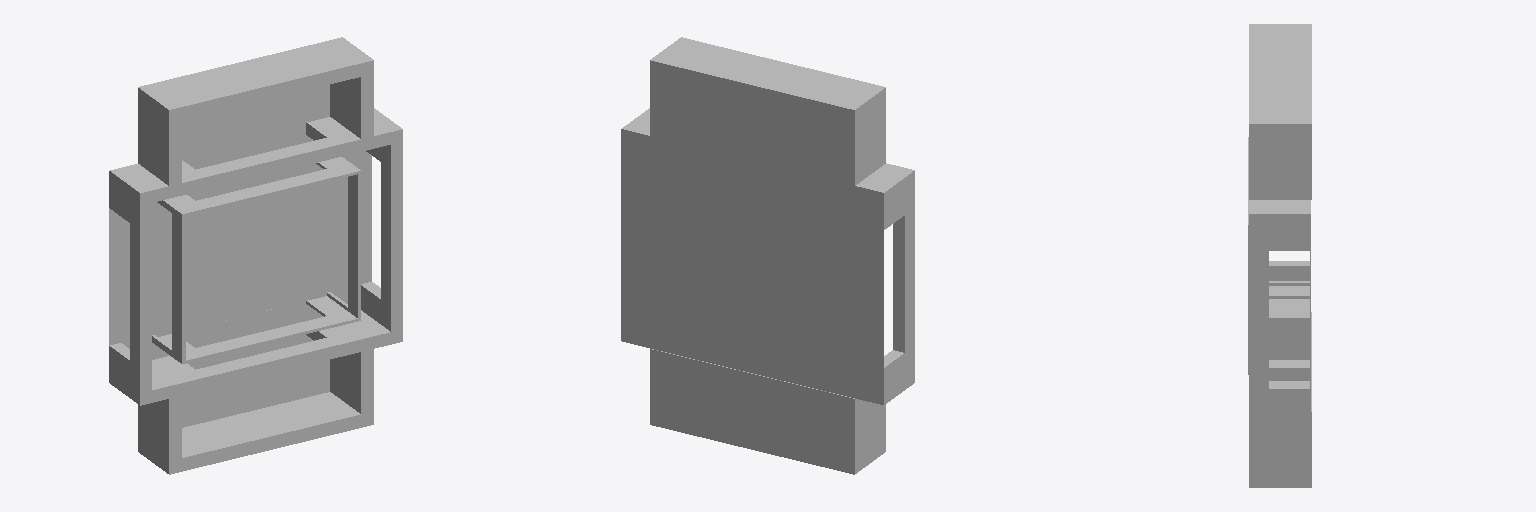
Rendered from warehouse.obj.
3 views of the same model, side by side, from view 1: azimuth 30°, elevation 25°; view 2: azimuth 150°, elevation 25°; view 3: azimuth 270°, elevation 25° (orthographic).
Parts seen in each view (by area): view 1: Solid1; view 2: Solid1; view 3: Solid1.
Boxes of the visible parts, <box> form: Solid1: <box>109,37,402,474</box>; Solid1: <box>621,37,914,474</box>; Solid1: <box>1248,24,1311,487</box>.
Size of the model in its own units: 22000 by 29161 by 4578.